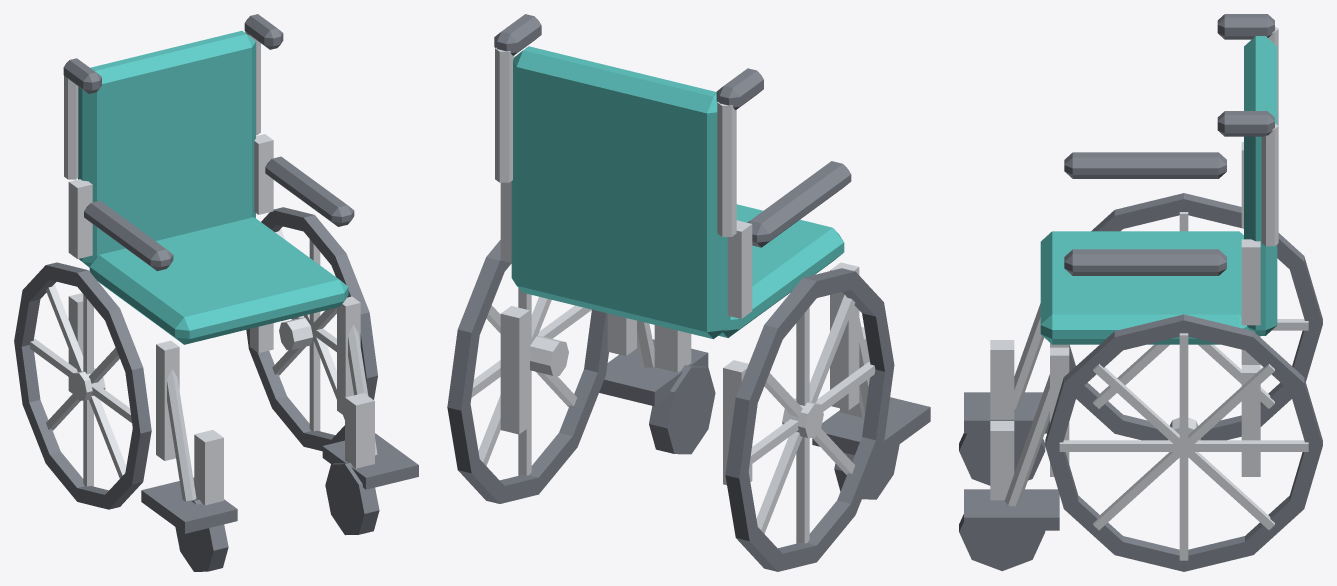
3 views of the same model, side by side, from view 1: azimuth 30°, elevation 25°; view 2: azimuth 150°, elevation 25°; view 3: azimuth 270°, elevation 25° (orthographic). The views are drawn at different scales.
Visible parts, largest first — view 1: wheelchair, wheel-left, wheel-left-steel, wheel-right, wheel-right-steel; view 2: wheelchair, wheel-left, wheel-right, wheel-left-steel, wheel-right-steel; view 3: wheelchair, wheel-right, wheel-right-steel, wheel-left, wheel-left-steel.
Part boxes in pixels (x1,y1,x2,y2): wheelchair: (63, 14, 418, 571); wheel-left: (14, 262, 151, 509); wheel-left-steel: (29, 284, 131, 486); wheel-right: (246, 207, 377, 451); wheel-right-steel: (272, 229, 344, 431); wheelchair: (494, 14, 930, 499); wheel-left: (725, 268, 894, 571); wheel-right: (447, 240, 608, 503); wheel-left-steel: (749, 295, 875, 543); wheel-right-steel: (471, 288, 591, 475); wheelchair: (959, 14, 1278, 571); wheel-right: (1045, 314, 1322, 571); wheel-right-steel: (1059, 333, 1308, 560); wheel-left: (1069, 193, 1322, 440); wheel-left-steel: (1093, 212, 1308, 408).
Size of the model in its own units: 0.64 by 1.08 by 0.76.
